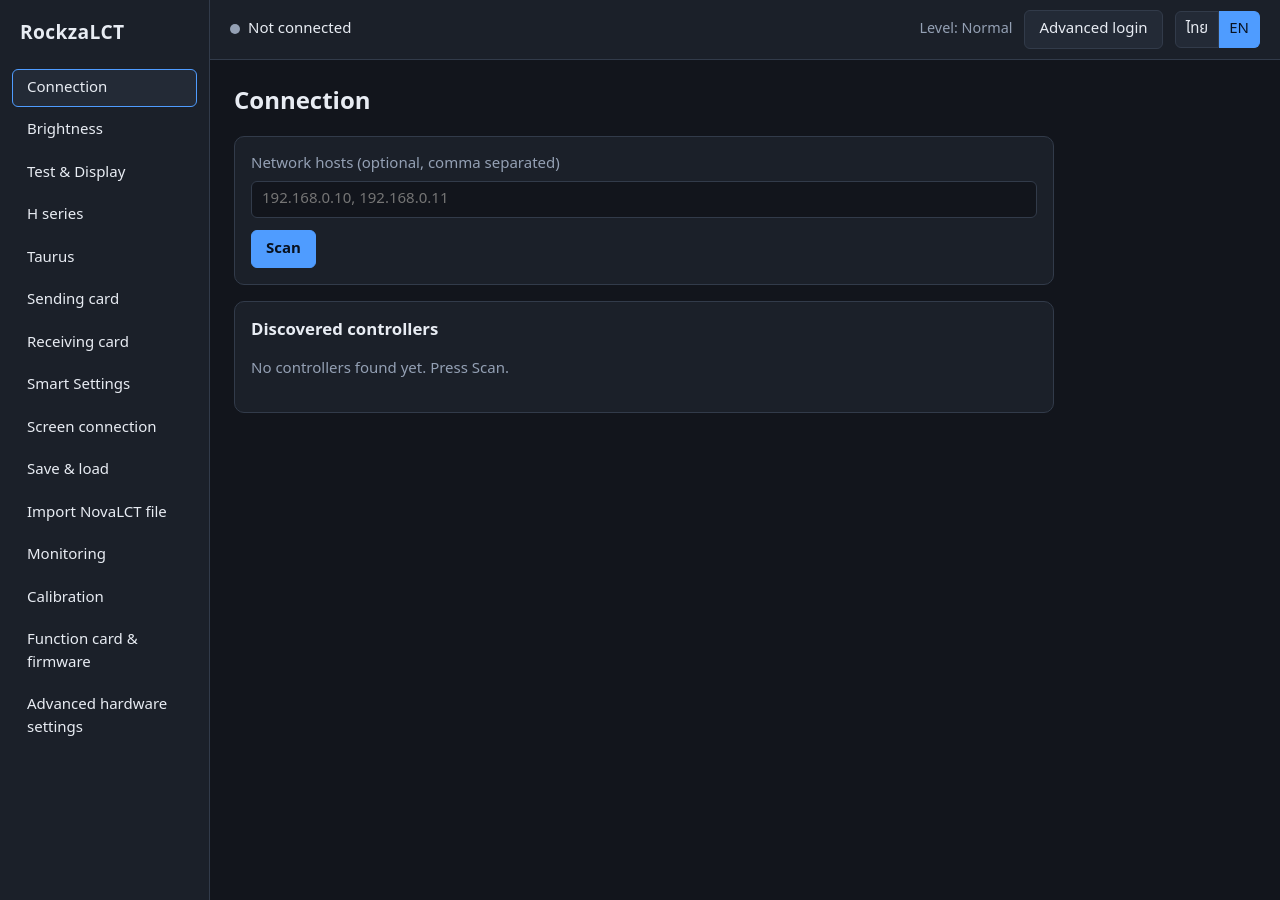
Test: AdvancedSettingsPage: what is shown › marks a value that differs from its default
What coordinates should you click on to do the following:
click the button "Advanced hardware settings"
I would click on:
 (104, 717)
Its box is [12,686,197,747].
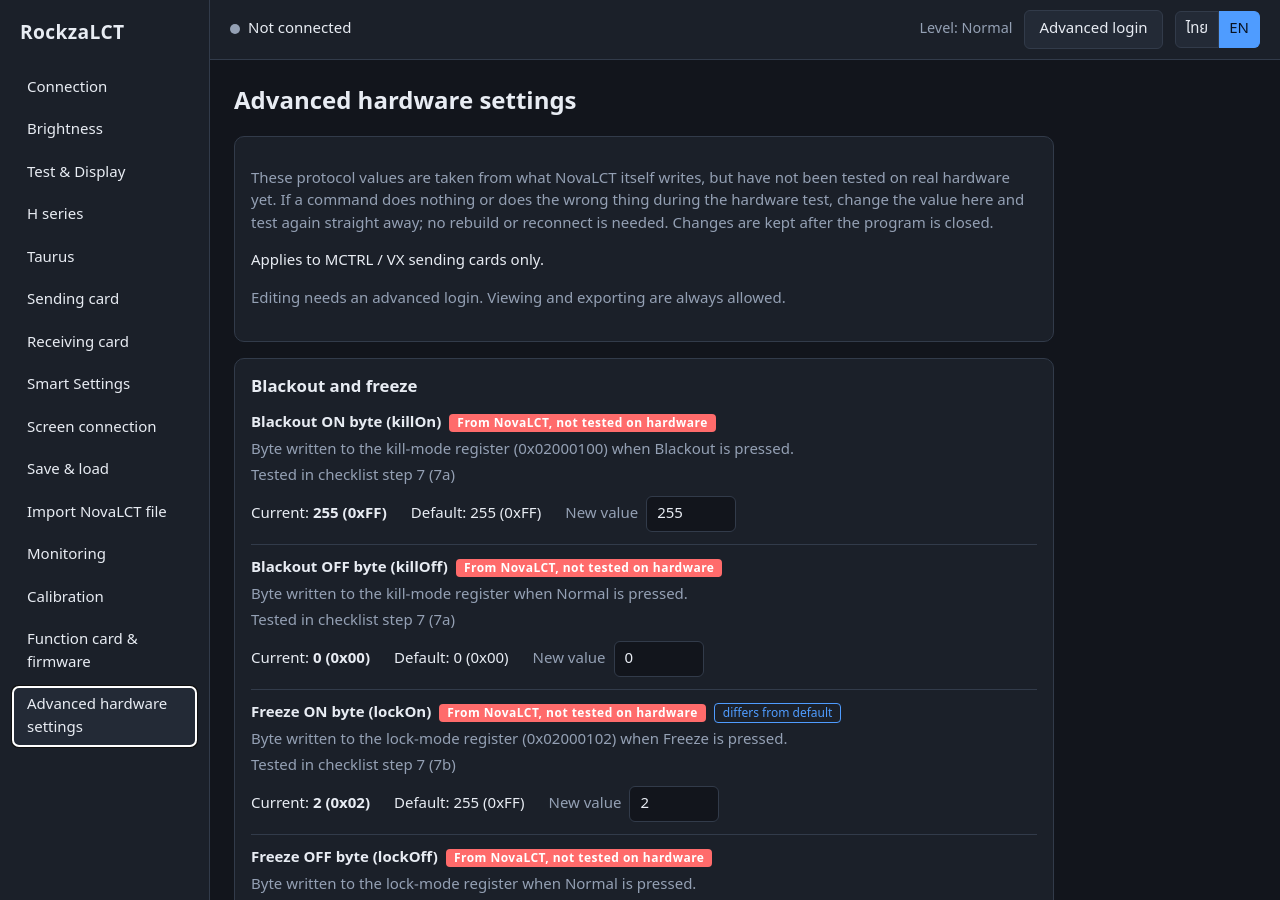
Now the element with test id "adv-row-killOn" is shown, box [251,411,794,532]
Now the text "differs from default" is shown, box [714,703,841,723]
Now the text with test id "adv-current-lockOn" reads "2 (0x02)", box [313,792,370,815]
